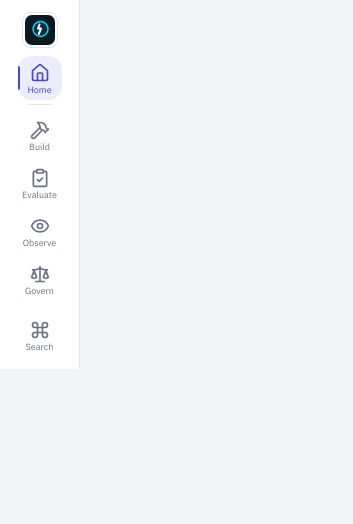
Test: FlyoutNav › exposes every nav destination across its pillars
Click the button titled "Build".
click(40, 135)  # box [18, 113, 62, 157]
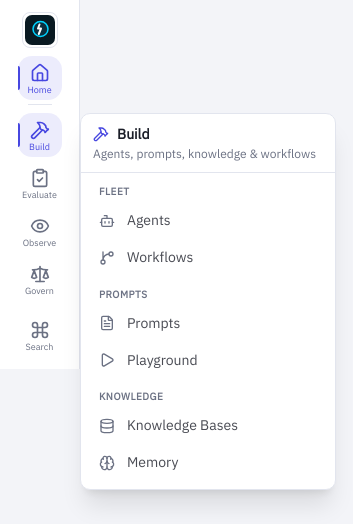
Expected: the link "Agents" is shown, [99, 211, 171, 229]
Expected: the link "Workflows" is shown, [99, 248, 193, 266]
Expected: the link "Prompts" is shown, [99, 314, 180, 332]
Click the button titled "Evaluate".
click(40, 183)  # box [18, 161, 62, 205]
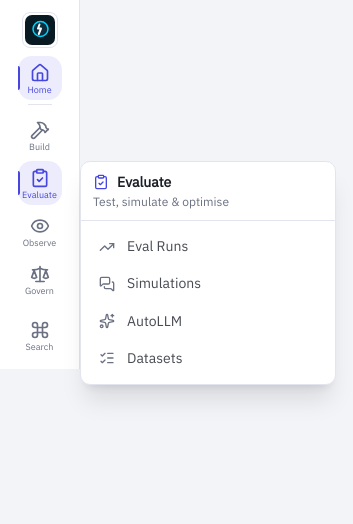
Expected: the link "Eval Runs" is shown, [99, 237, 188, 255]
Expected: the link "Simulations" is shown, [99, 274, 201, 292]
Expected: the link "AutoLLM" is shown, [99, 312, 182, 330]
Click the button titled "Observe".
click(40, 231)  # box [18, 209, 62, 253]
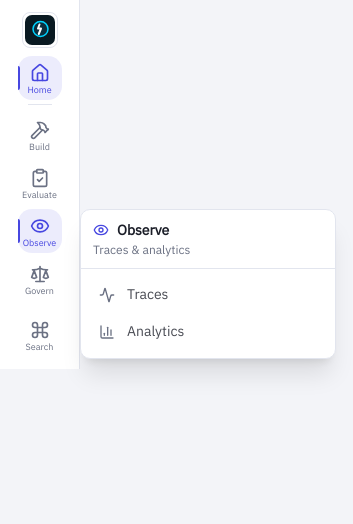
Expected: the link "Traces" is shown, [99, 285, 168, 303]
Expected: the link "Analytics" is shown, [99, 322, 184, 340]
Click the button titled "Govern".
click(40, 279)  # box [18, 257, 62, 301]
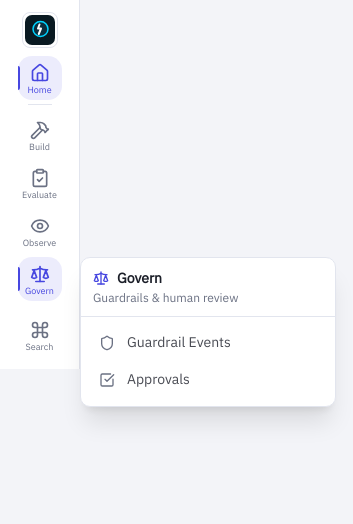
Expected: the link "Guardrail Events" is shown, [99, 333, 231, 351]
Expected: the link "Approvals" is shown, [99, 370, 190, 388]
